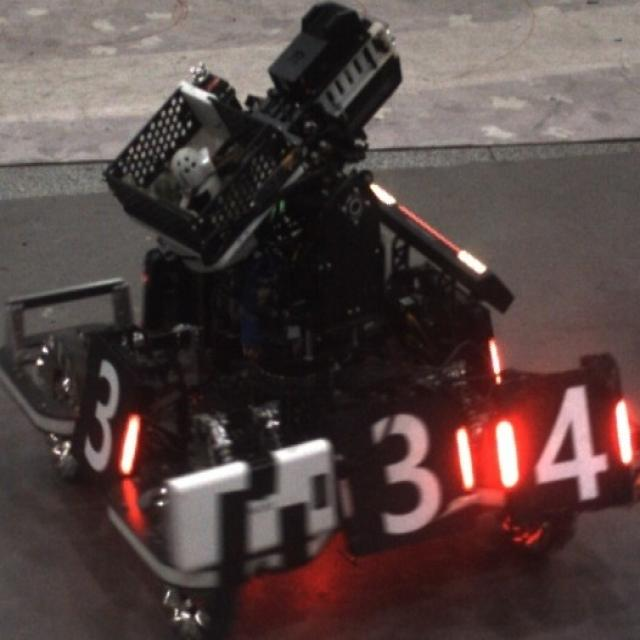R4: (496, 385, 632, 502)
